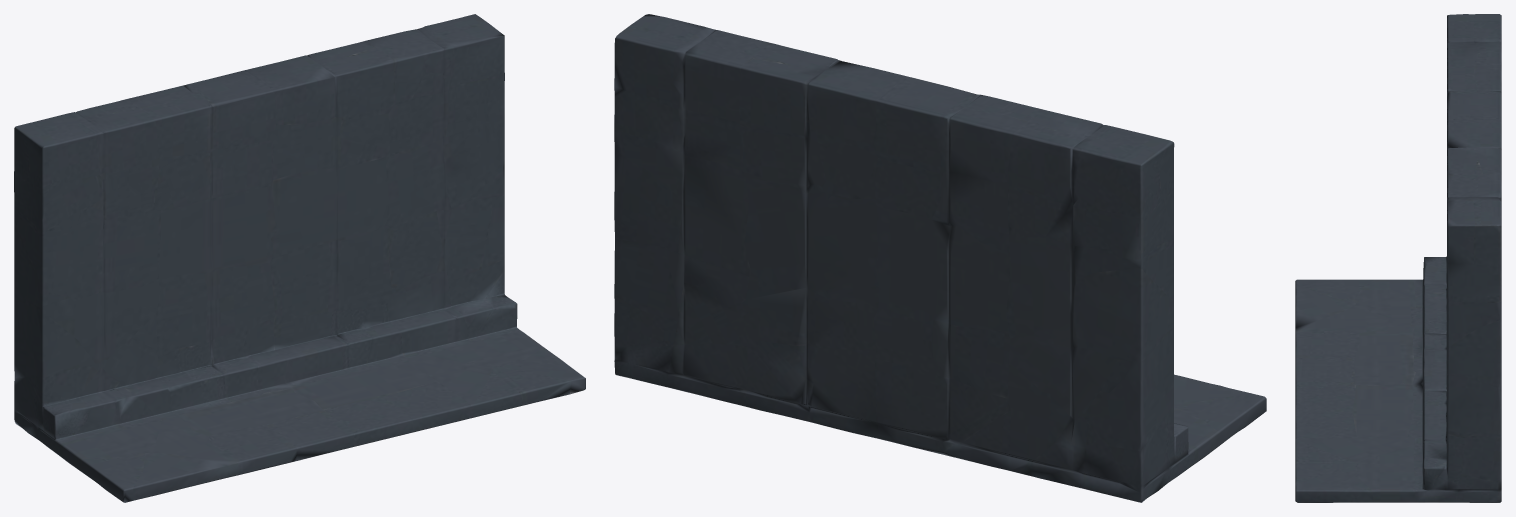
File: mural_wall_p.glb
3 renders of one model, left to right at view 1: azimuth 30°, elevation 25°; view 2: azimuth 150°, elevation 25°; view 3: azimuth 270°, elevation 25°, orthographic. The views are drawn at different scales.
Size of the model in its own units: 1.9 by 1.17 by 0.7838.
1 material, 1 textured.
